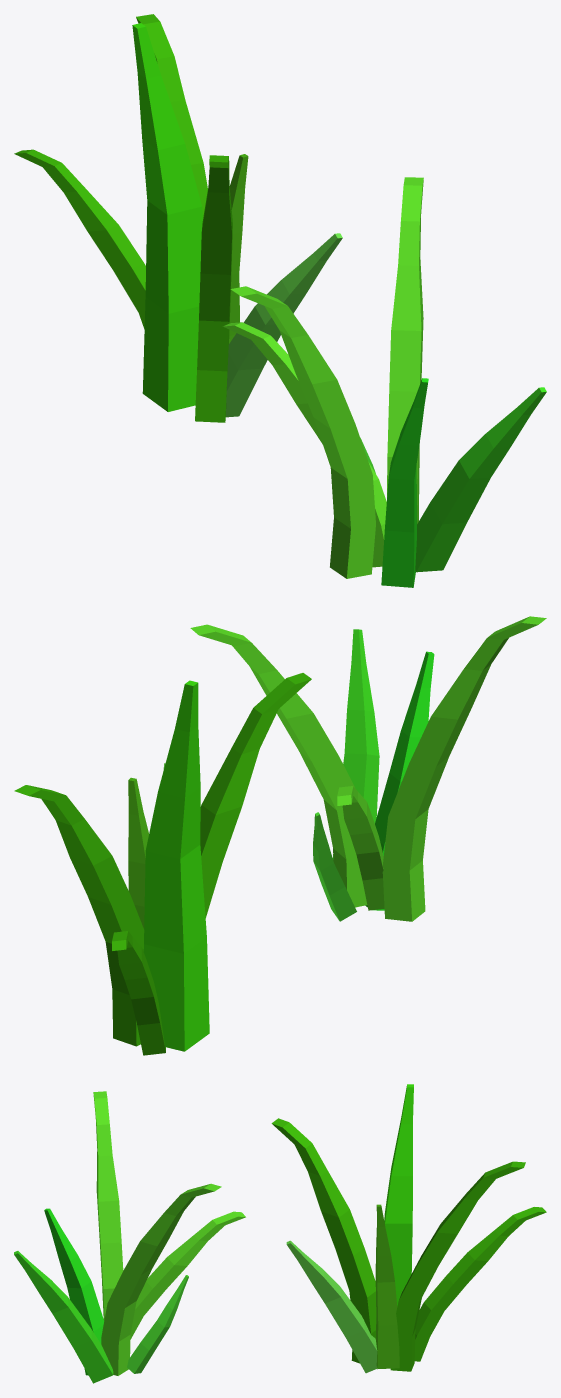
Rendered from rumput.fbx.
The picture shows the model from 3 angles, top to bottom: view 1: azimuth 30°, elevation 25°; view 2: azimuth 150°, elevation 25°; view 3: azimuth 270°, elevation 25°; orthographic projection. The views are drawn at different scales.
Visible parts, largest first — view 1: Cube.010, Cube; view 2: Cube.010, Cube; view 3: Cube.010, Cube.
Boxes of the visible parts, x1=… form: Cube.010: x1=14, y1=14, x2=342, y2=422; Cube: x1=223, y1=177, x2=546, y2=587; Cube.010: x1=14, y1=673, x2=311, y2=1055; Cube: x1=190, y1=616, x2=546, y2=921; Cube.010: x1=271, y1=1084, x2=546, y2=1373; Cube: x1=14, y1=1091, x2=245, y2=1383.
Bounding box in the file's own units: 110 × 155 × 271.
